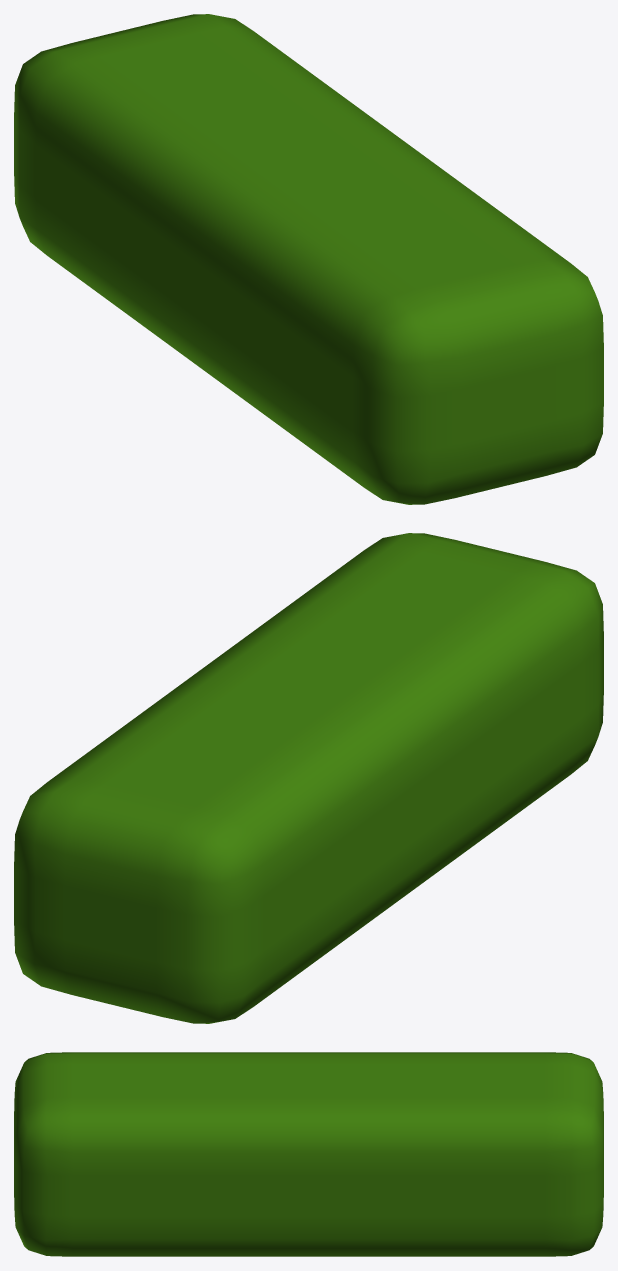
Rendered from SM_Hecke.fbx.
3 views of the same model, one above another, from view 1: azimuth 30°, elevation 25°; view 2: azimuth 150°, elevation 25°; view 3: azimuth 270°, elevation 25° (orthographic). The views are drawn at different scales.
Parts seen in each view (by area): view 1: Hecke.001; view 2: Hecke.001; view 3: Hecke.001.
Part boxes in pixels (x1,y1,x2,y2): Hecke.001: (14,14,603,504); Hecke.001: (14,533,603,1023); Hecke.001: (14,1052,603,1256).
Size of the model in its own units: 100 by 82.59 by 300.
